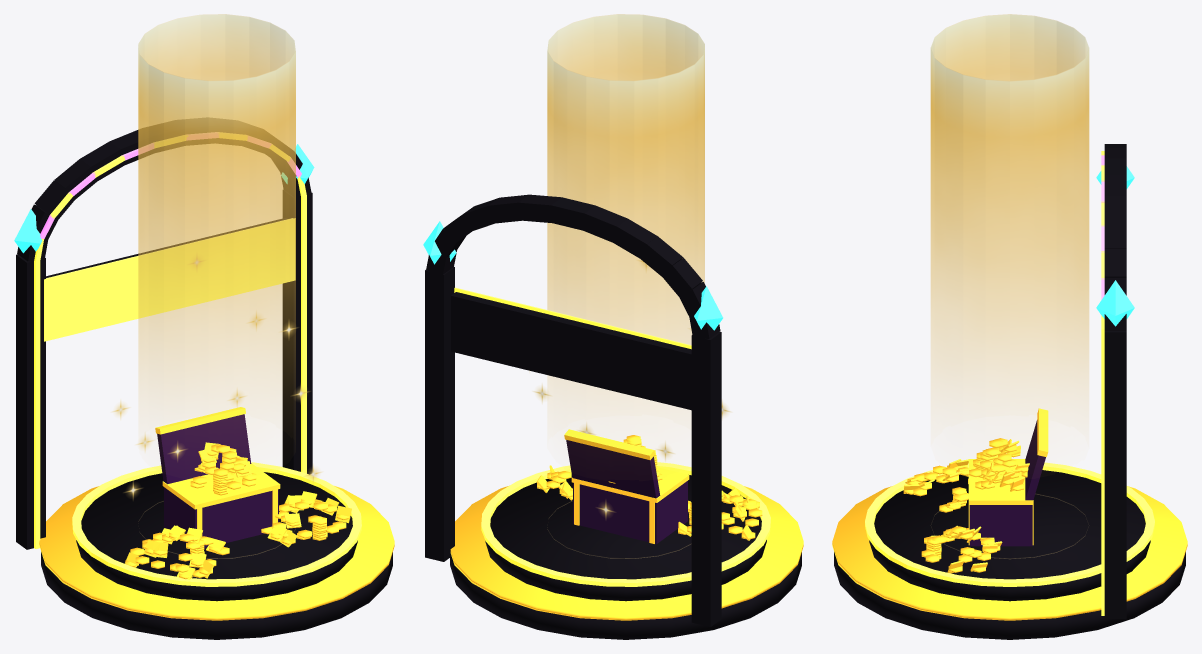
File: treasury.glb
3 views of the same model, side by side, from view 1: azimuth 30°, elevation 25°; view 2: azimuth 150°, elevation 25°; view 3: azimuth 270°, elevation 25° (orthographic).
Visible parts, largest first — view 1: treasury_gold_beam, treasury_kiosk_marble, treasury_neon_gold, treasury_treasure_gold, treasury_chest_wood, treasury_gold_spark, treasury_gem_cyan, treasury_neon_purple; view 2: treasury_kiosk_marble, treasury_gold_beam, treasury_treasure_gold, treasury_chest_wood, treasury_neon_gold, treasury_gem_cyan, treasury_gold_spark; view 3: treasury_gold_beam, treasury_kiosk_marble, treasury_treasure_gold, treasury_neon_gold, treasury_chest_wood, treasury_gem_cyan.
Boxes of the visible parts, box(x1,y1,x2,y2) form: treasury_gold_beam: box(138, 14, 295, 558); treasury_kiosk_marble: box(16, 118, 392, 639); treasury_neon_gold: box(34, 133, 361, 586); treasury_treasure_gold: box(39, 407, 394, 620); treasury_chest_wood: box(157, 414, 278, 548); treasury_gold_spark: box(112, 256, 321, 499); treasury_gem_cyan: box(14, 144, 314, 253); treasury_neon_purple: box(40, 132, 301, 238); treasury_kiosk_marble: box(425, 194, 801, 639); treasury_gold_beam: box(547, 14, 704, 558); treasury_treasure_gold: box(450, 429, 803, 620); treasury_chest_wood: box(566, 440, 687, 543); treasury_neon_gold: box(454, 287, 770, 586); treasury_gem_cyan: box(423, 221, 723, 330); treasury_gold_spark: box(529, 260, 730, 518); treasury_gold_beam: box(930, 14, 1089, 558); treasury_kiosk_marble: box(834, 144, 1185, 639); treasury_treasure_gold: box(832, 408, 1187, 620); treasury_neon_gold: box(865, 151, 1154, 615); treasury_chest_wood: box(969, 420, 1045, 546); treasury_gem_cyan: box(1096, 166, 1134, 326).
Size of what is drawn, in the model's own units: 4.04 by 6.5 by 4.04.
8 materials, 2 textured.
